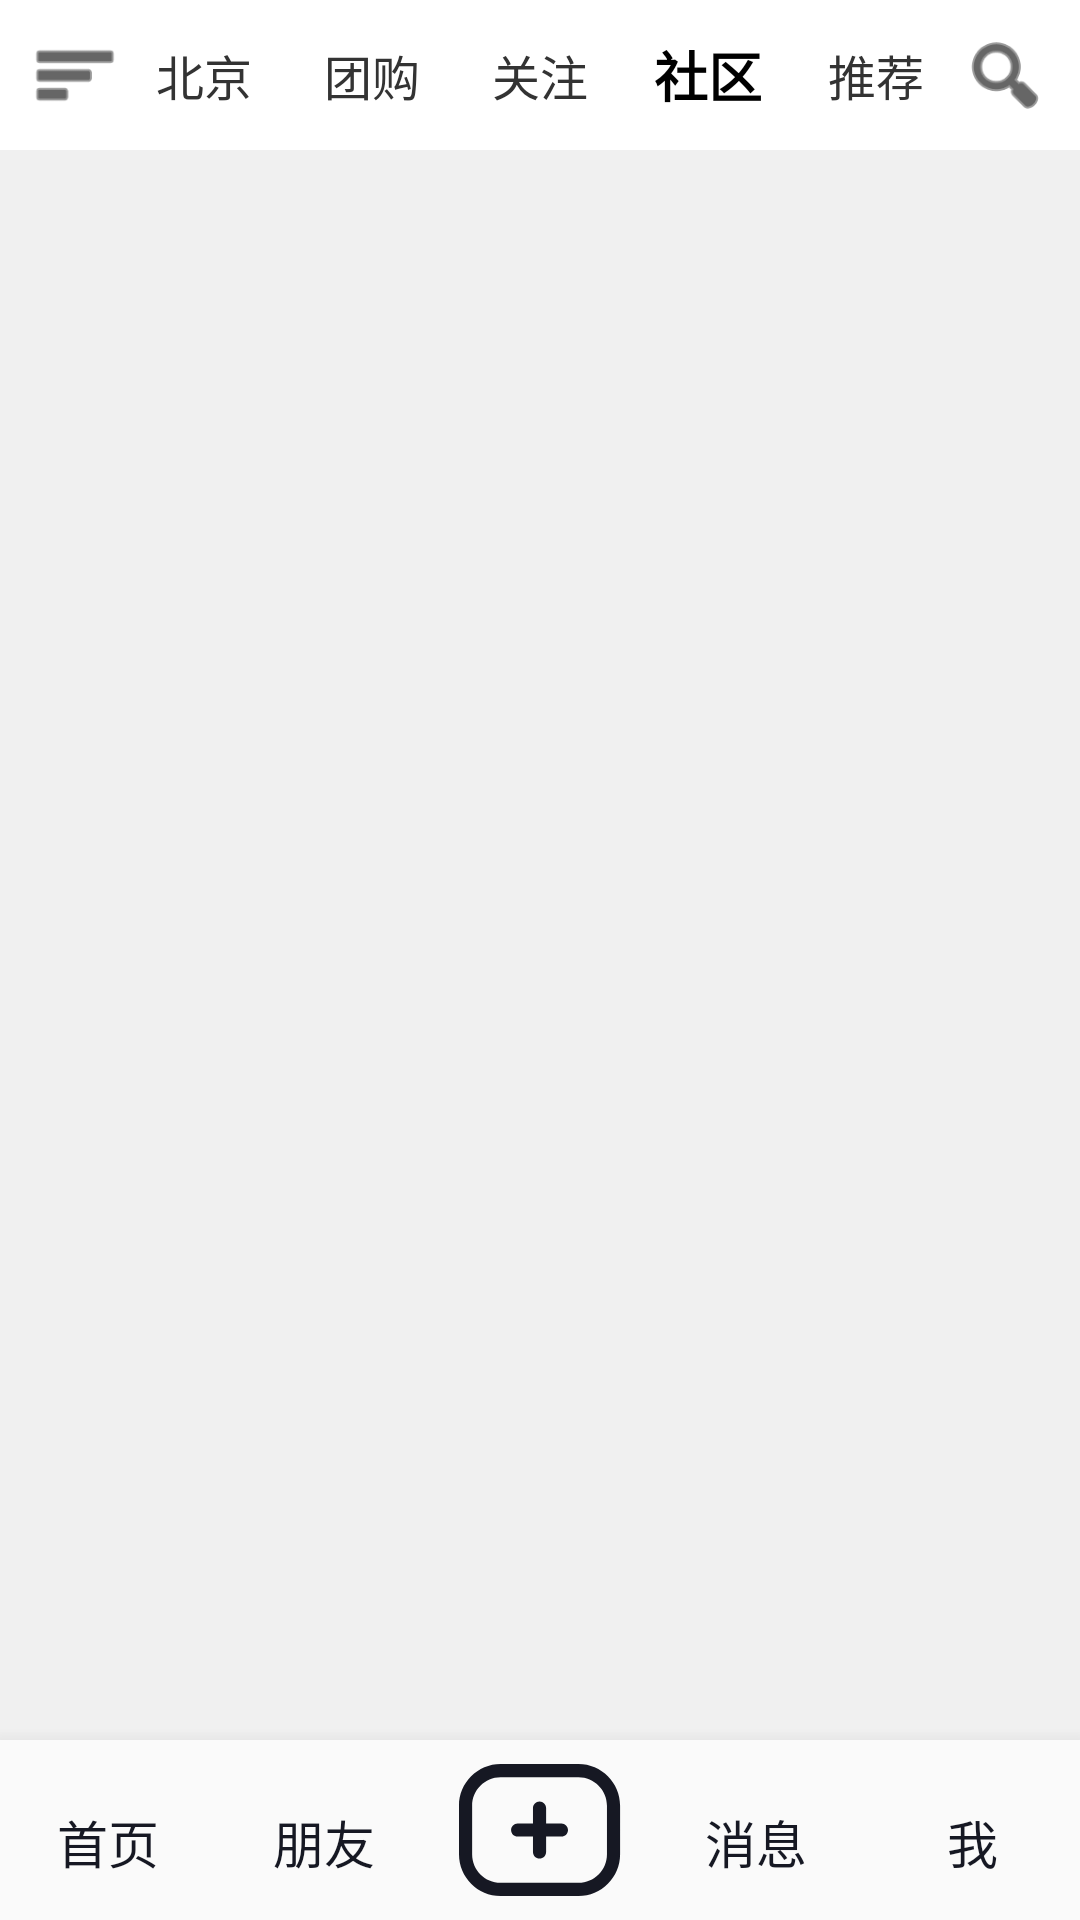

Icon click points for this 1080 × 1920 phone screenshot, format (x=x, y=y):
bottom add: (x=539, y=1830)
search: (x=1005, y=75)
sort by size: (x=75, y=75)
